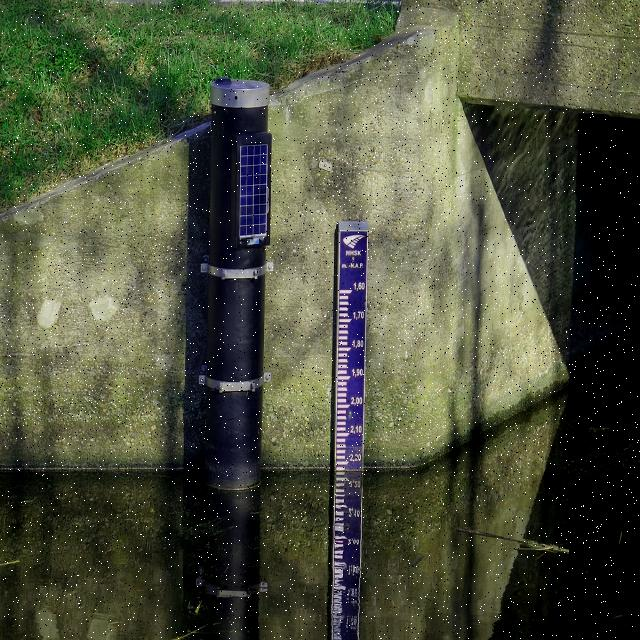staff: (334, 225, 369, 482)
